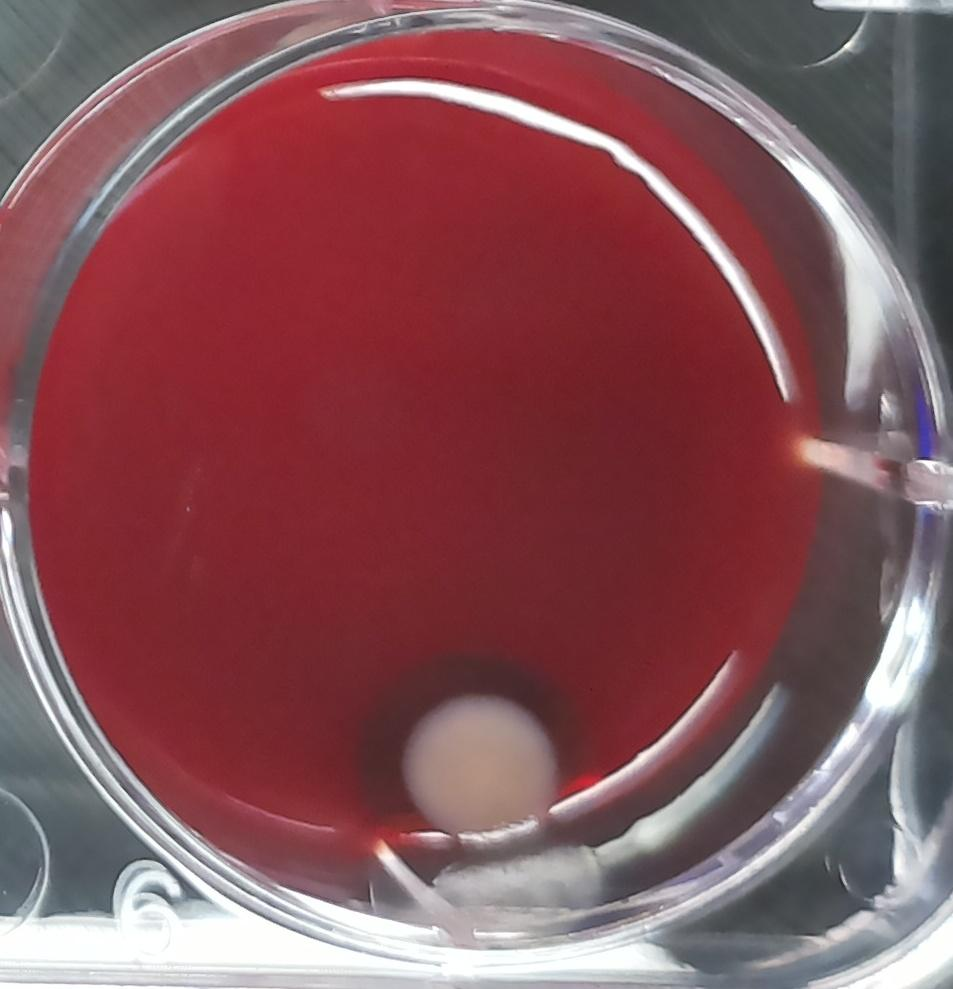bcereus: (370, 657, 591, 852)
